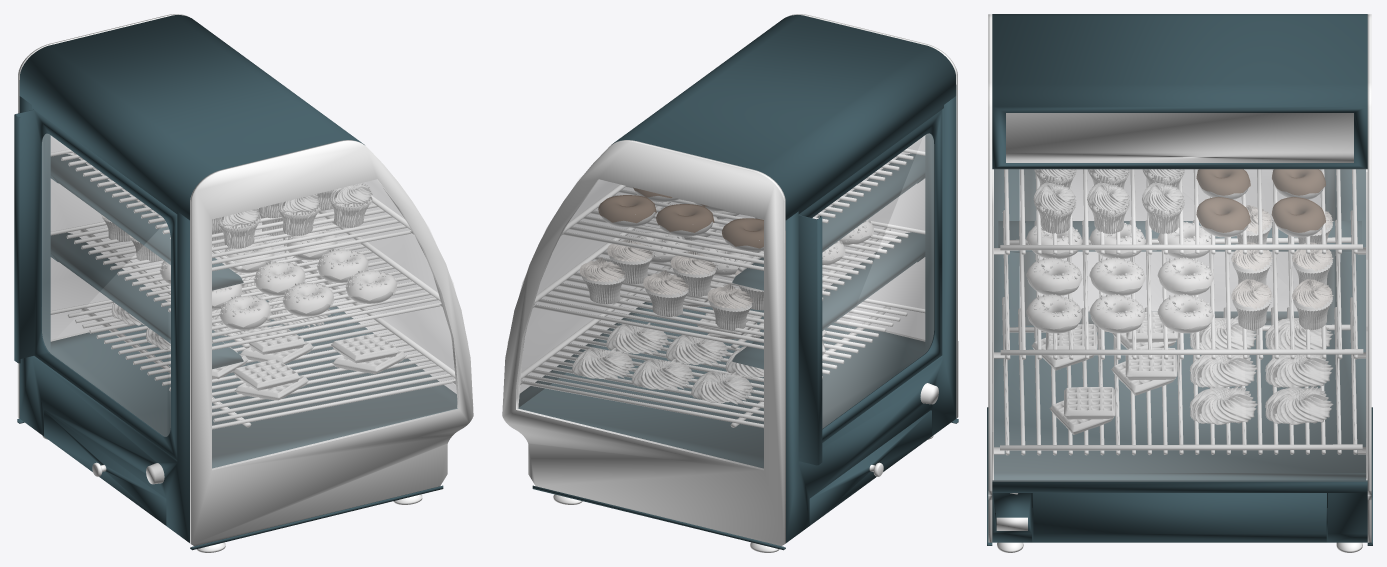
File: candidate.table.bovenkap-0ae2-001.glb
3 views of the same model, side by side, from view 1: azimuth 30°, elevation 25°; view 2: azimuth 150°, elevation 25°; view 3: azimuth 270°, elevation 25° (orthographic). The views are drawn at different scales.
Parts seen in each view (by area): view 1: Bovenkap.001, Bovenkap.003, csh48.011, csh746.009, csh746.010, csh746.011, csh173.013, csh746.013, csh173.015, csh746.014, csh48.010, csh48.009 (+6 smaller); view 2: Bovenkap.001, Bovenkap.003, csh31.006, csh169.007, csh31.007, csh31.008, csh56.007, csh56.008, csh169.008, csh56.006, csh31.010, csh31.011 (+5 smaller); view 3: Bovenkap.001, Bovenkap.003, csh31.008, csh31.011, csh31.007, csh31.010, csh169.011, csh746.011, csh746.017, csh746.014, csh169.008, csh746.010 (+27 smaller).
Boxes of the visible parts, bbox=[...] form: Bovenkap.001: bbox=[14, 15, 467, 552]; Bovenkap.003: bbox=[17, 14, 473, 545]; csh48.011: bbox=[330, 183, 372, 227]; csh746.009: bbox=[219, 295, 270, 330]; csh746.010: bbox=[282, 282, 333, 316]; csh746.011: bbox=[345, 270, 396, 303]; csh173.013: bbox=[233, 359, 300, 390]; csh746.013: bbox=[254, 261, 305, 295]; csh173.015: bbox=[331, 334, 398, 363]; csh746.014: bbox=[317, 249, 368, 282]; csh48.010: bbox=[278, 194, 320, 235]; csh48.009: bbox=[217, 208, 260, 248]; Bovenkap.001: bbox=[508, 15, 958, 552]; Bovenkap.003: bbox=[502, 14, 958, 545]; csh31.006: bbox=[691, 370, 753, 404]; csh169.007: bbox=[656, 204, 714, 236]; csh31.007: bbox=[631, 358, 694, 390]; csh31.008: bbox=[572, 347, 634, 379]; csh56.007: bbox=[643, 270, 688, 316]; csh56.008: bbox=[580, 257, 625, 304]; csh169.008: bbox=[598, 195, 656, 226]; csh56.006: bbox=[707, 283, 752, 330]; csh31.010: bbox=[666, 334, 728, 365]; csh31.011: bbox=[606, 323, 668, 354]; Bovenkap.001: bbox=[987, 14, 1372, 552]; Bovenkap.003: bbox=[988, 14, 1371, 542]; csh31.008: bbox=[1265, 386, 1332, 424]; csh31.011: bbox=[1190, 386, 1257, 424]; csh31.007: bbox=[1265, 354, 1332, 387]; csh31.010: bbox=[1190, 355, 1257, 387]; csh169.011: bbox=[1196, 197, 1250, 237]; csh746.011: bbox=[1026, 294, 1082, 333]; csh746.017: bbox=[1157, 294, 1213, 333]; csh746.014: bbox=[1089, 294, 1145, 333]; csh169.008: bbox=[1271, 197, 1325, 237]; csh746.010: bbox=[1026, 257, 1082, 295].
Size of the model in its own units: 0.9489 by 1.15 by 0.9516.
